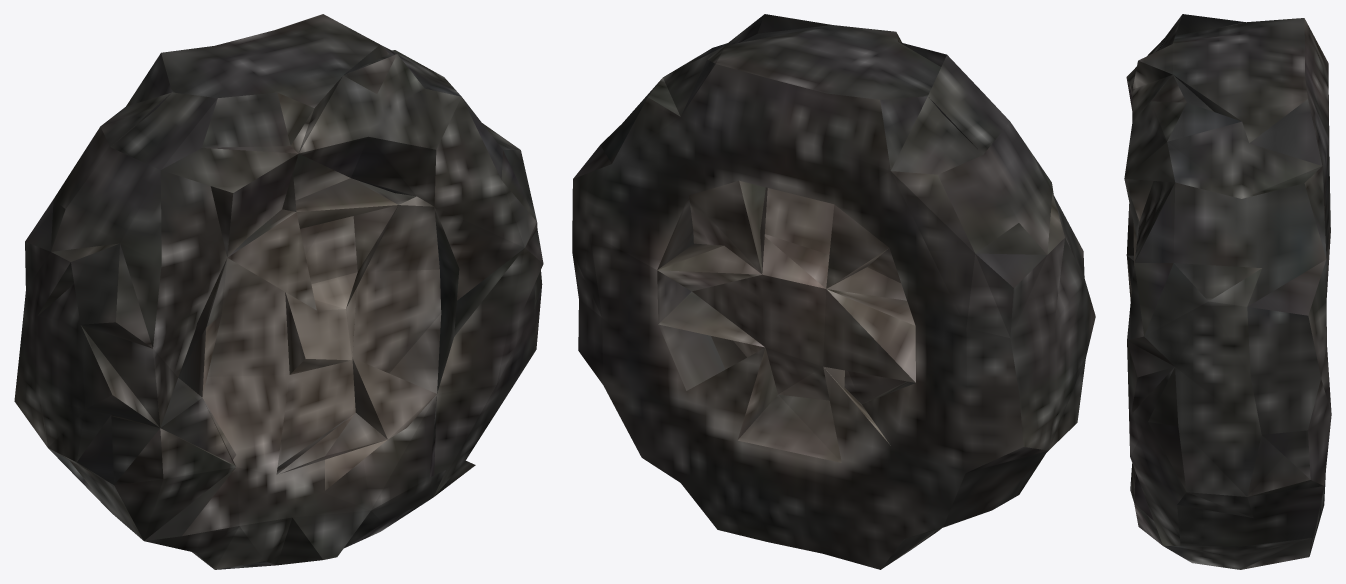
File: offroad_tire.glb
3 renders of one model, left to right at view 1: azimuth 30°, elevation 25°; view 2: azimuth 150°, elevation 25°; view 3: azimuth 270°, elevation 25°, orthographic.
Parts seen in each view (by area): view 1: model; view 2: model; view 3: model.
Boxes of the visible parts, x1=… form: model: x1=14, y1=14, x2=543, y2=569; model: x1=572, y1=14, x2=1095, y2=569; model: x1=1124, y1=14, x2=1331, y2=569.
Size of the model in its own units: 0.8168 by 0.8184 by 0.32.
1 material, 1 textured.
